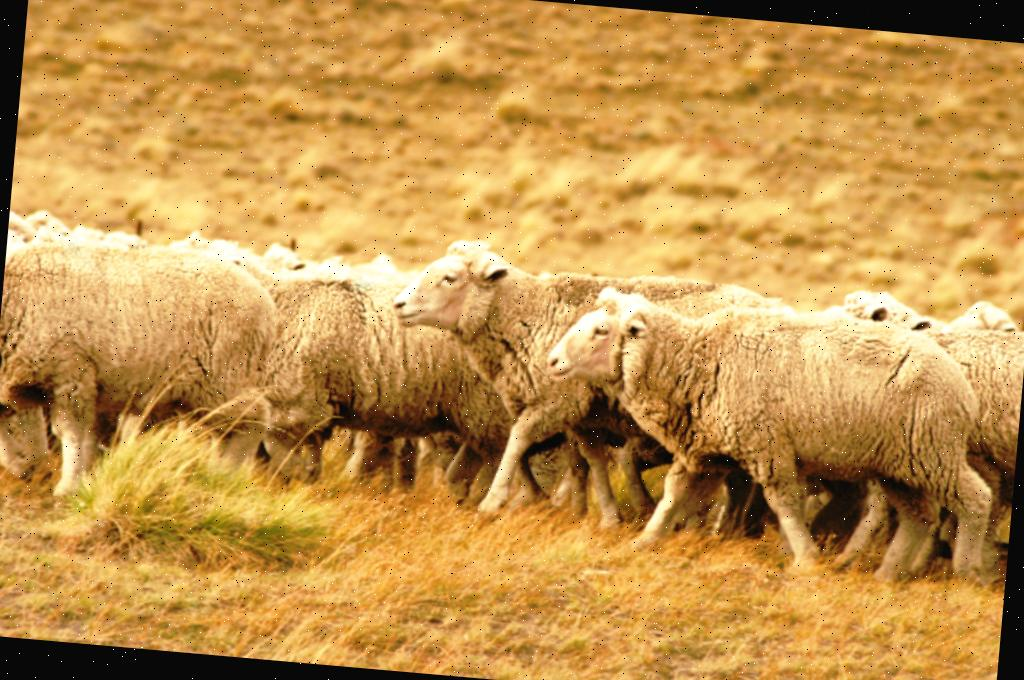Sheep: (530, 280, 998, 568), (380, 235, 796, 532), (240, 243, 557, 490), (0, 225, 294, 449)
